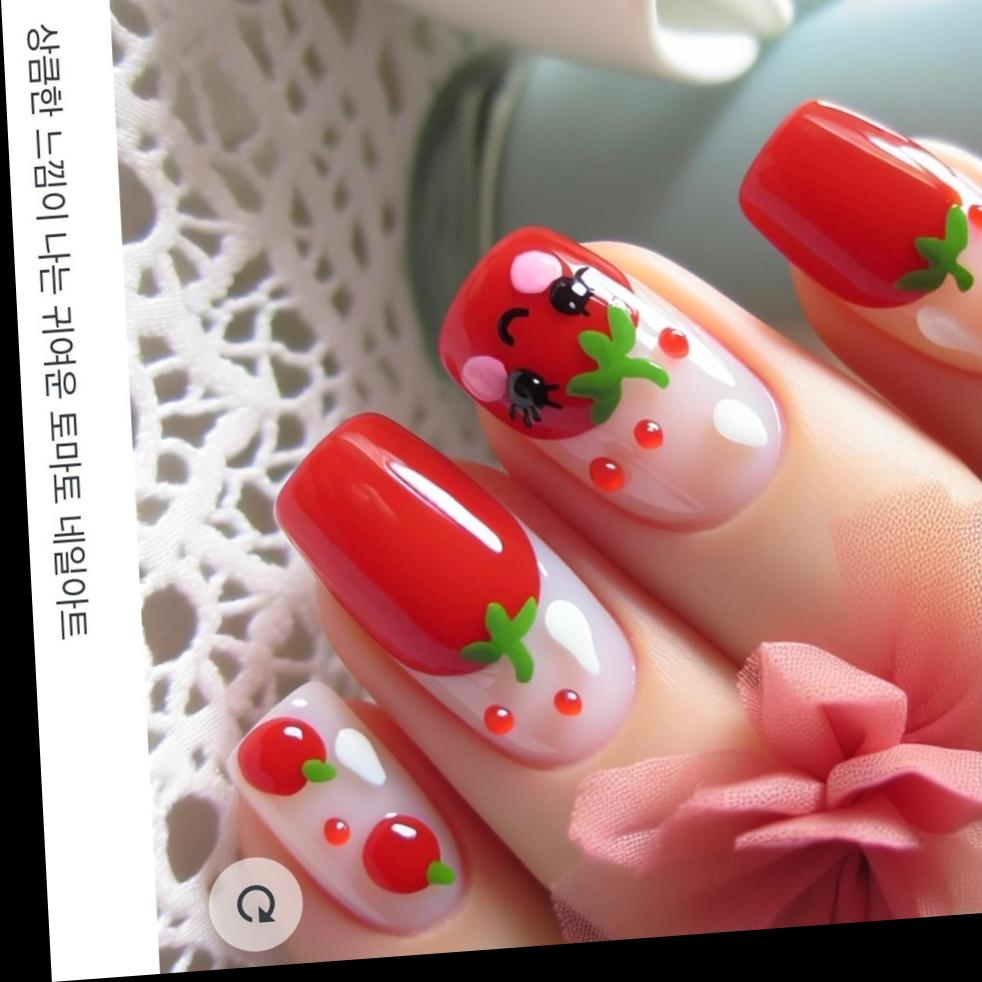nail: (268, 391, 646, 791), (432, 206, 794, 552)
